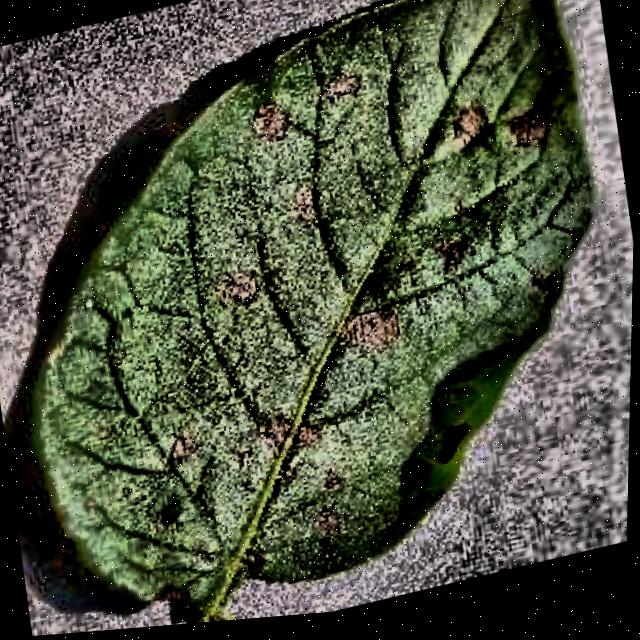Potato_leaf_early_blight: (34, 0, 587, 622)
